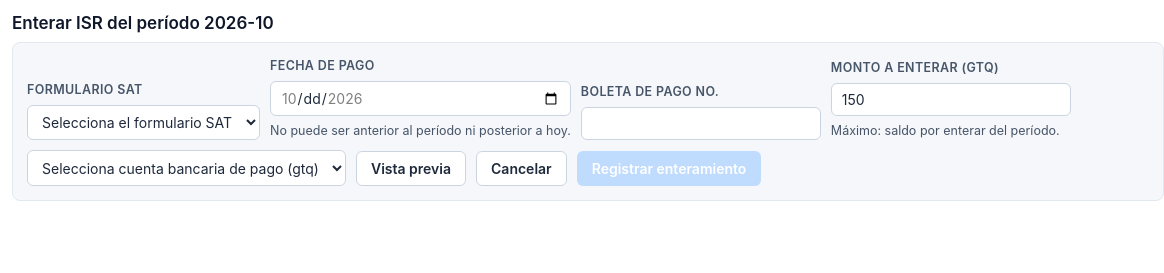
it: FormularioEnteramiento › registra con el payload exacto y muestra el error de la API
Select "SAT-1331" in the dropdown labelled "Formulario SAT": (144, 123) [27,105,260,140]
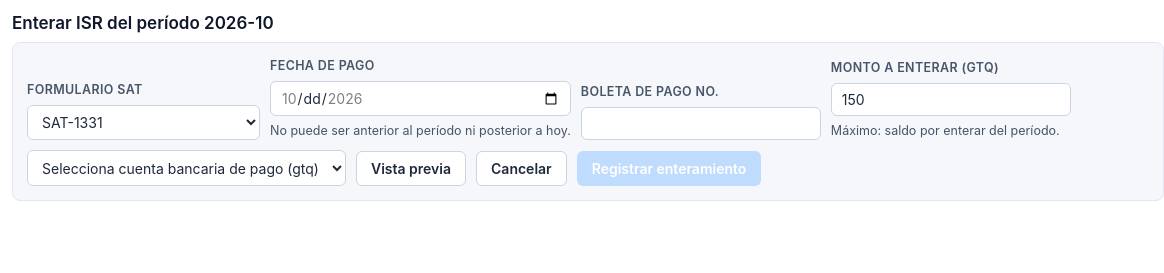
In the date field labelled "Fecha de pago": (420, 99) [270,81,571,116], type "2026-10-10"
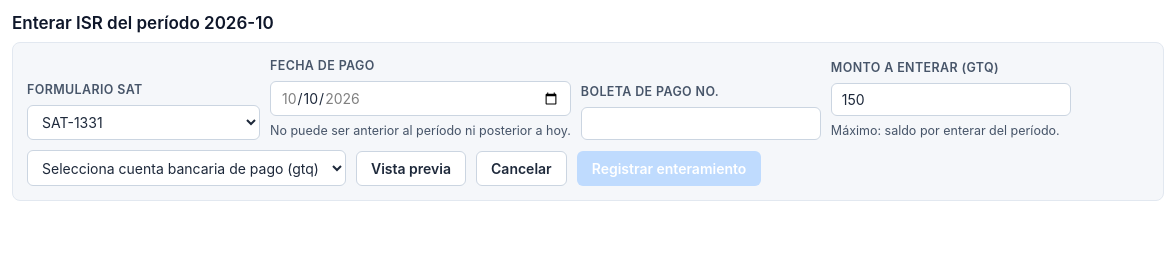
In the field labelled "Boleta de pago No.": (701, 124) [581,107,821,140], type "B-1"
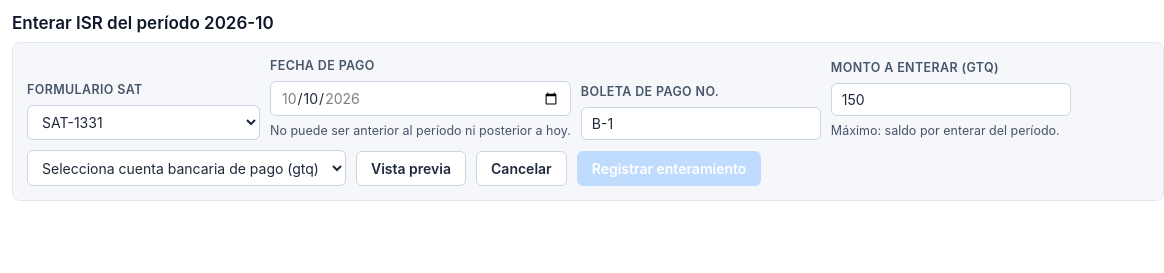
Select "Banco Industrial 001" in the dropdown named "Cuenta bancaria de pago (GTQ)": (186, 168) [27,150,346,186]
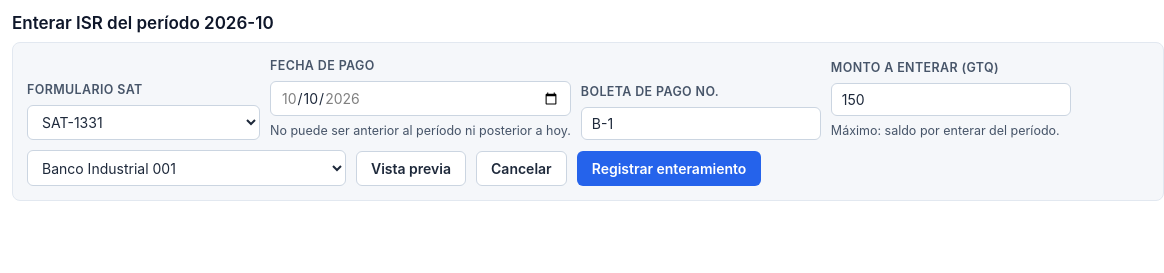
Click the button "Registrar enteramiento": click(669, 168) [577,151,761,186]
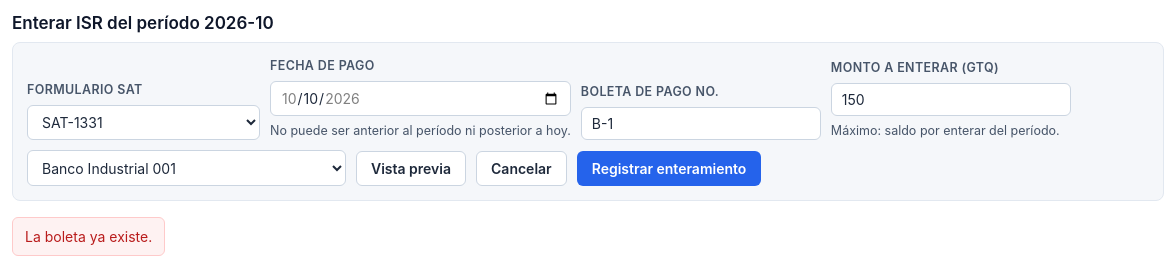
Expected: the text "La boleta ya existe." is shown, [12,217,165,256]
